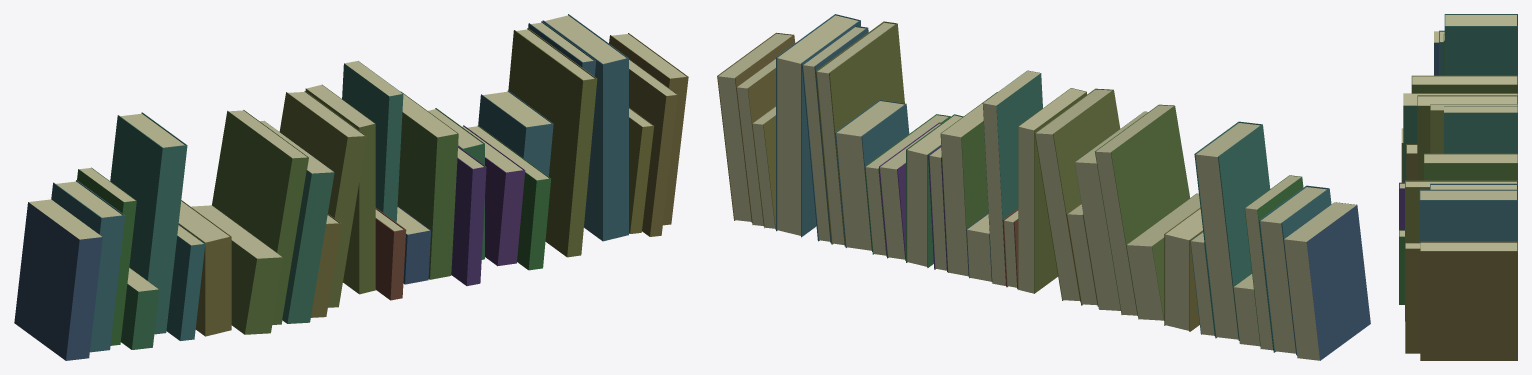
File: Books1.fbx
The picture shows the model from 3 angles, left to right: view 1: azimuth 30°, elevation 25°; view 2: azimuth 150°, elevation 25°; view 3: azimuth 270°, elevation 25°; orthographic projection. The views are drawn at different scales.
Visible parts, largest first — view 1: Book22, Book0, Book8, Book4, Book24, Book16, Book11, Book7, Book14, Book9, Book1, Book12 (+16 smaller); view 2: Book0, Book8, Book4, Book22, Book11, Book24, Book14, Book16, Book12, Book21, Book1, Book27 (+16 smaller); view 3: Book27, Book24, Book4, Book14, Book16, Book8, Book11, Book26, Book22, Book9, Book12, Book23 (+6 smaller).
Part boxes in pixels (left/top/right/bottom): Book22: left=508, top=28, right=597, bottom=257; Book0: left=14, top=199, right=102, bottom=360; Book8: left=212, top=110, right=308, bottom=324; Book4: left=110, top=112, right=187, bottom=334; Book24: left=542, top=14, right=628, bottom=241; Book16: left=397, top=91, right=458, bottom=279; Book11: left=279, top=91, right=366, bottom=307; Book7: left=191, top=205, right=283, bottom=334; Book14: left=342, top=61, right=403, bottom=222; Book9: left=260, top=121, right=334, bottom=323; Book1: left=51, top=180, right=125, bottom=352; Book12: left=305, top=84, right=375, bottom=294; Book0: left=1284, top=202, right=1370, bottom=360; Book8: left=1095, top=104, right=1189, bottom=315; Book4: left=1194, top=121, right=1270, bottom=340; Book22: left=815, top=21, right=904, bottom=246; Book11: left=1034, top=88, right=1120, bottom=301; Book24: left=776, top=14, right=860, bottom=237; Book14: left=982, top=70, right=1042, bottom=285; Book16: left=940, top=92, right=997, bottom=276; Book12: left=1018, top=88, right=1086, bottom=293; Book21: left=835, top=100, right=909, bottom=251; Book1: left=1259, top=185, right=1331, bottom=355; Book27: left=717, top=32, right=795, bottom=222; Book27: left=1420, top=241, right=1517, bottom=360; Book24: left=1419, top=189, right=1517, bottom=242; Book4: left=1444, top=14, right=1517, bottom=75; Book14: left=1444, top=106, right=1517, bottom=153; Book16: left=1424, top=153, right=1517, bottom=180; Book8: left=1411, top=75, right=1517, bottom=94; Book11: left=1417, top=95, right=1517, bottom=180; Book26: left=1405, top=243, right=1420, bottom=353; Book22: left=1405, top=180, right=1517, bottom=321; Book9: left=1403, top=93, right=1517, bottom=182; Book12: left=1430, top=104, right=1517, bottom=153; Book23: left=1430, top=183, right=1517, bottom=189.
Size of the model in its own units: 98.87 by 28.57 by 20.35.
